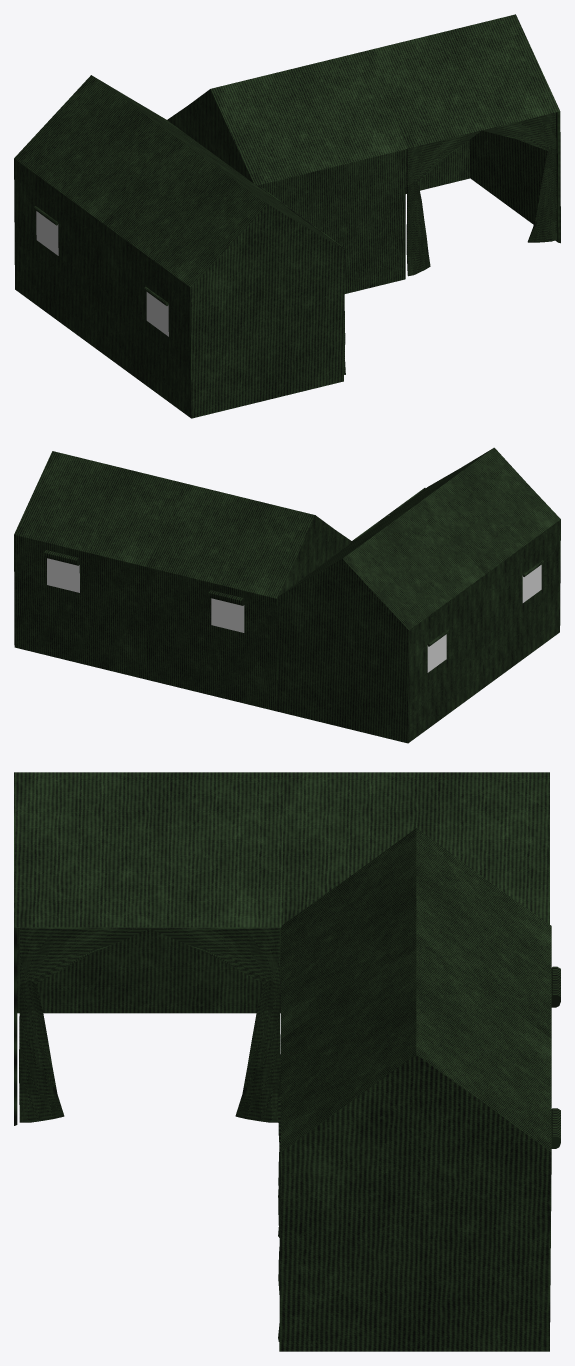
The model's file is MilitaryTent001.fbx.
3 renders of one model, top to bottom at view 1: azimuth 30°, elevation 25°; view 2: azimuth 150°, elevation 25°; view 3: azimuth 270°, elevation 25°, orthographic. The views are drawn at different scales.
Visible parts, largest first — view 1: MilitaryTent.001; view 2: MilitaryTent.001; view 3: MilitaryTent.001.
Boxes of the visible parts, bbox=[...] form: MilitaryTent.001: bbox=[14, 14, 560, 418]; MilitaryTent.001: bbox=[14, 447, 560, 743]; MilitaryTent.001: bbox=[14, 772, 560, 1351].
Bounding box in the file's own units: 6.11 × 2.48 × 4.14.
